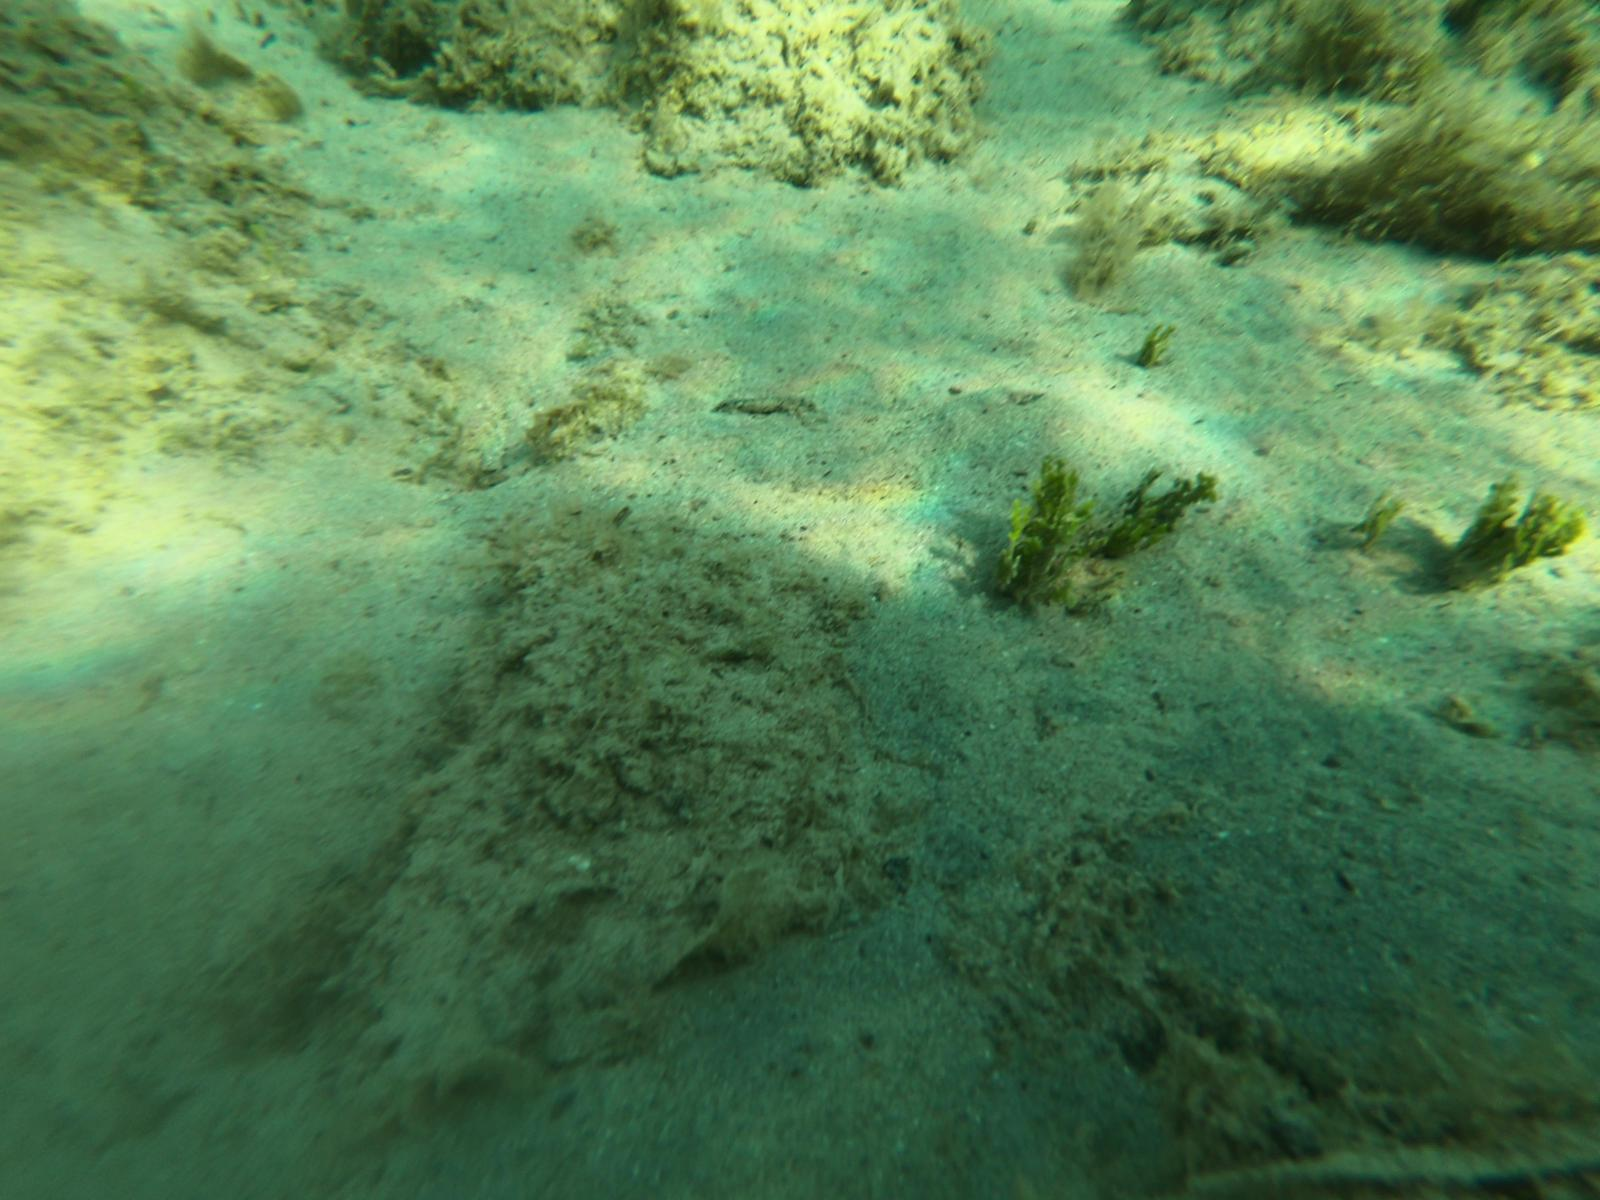halimeda: (986, 451, 1097, 613), (1459, 476, 1585, 594), (1099, 459, 1220, 563), (1364, 489, 1401, 547), (1139, 326, 1169, 371)
